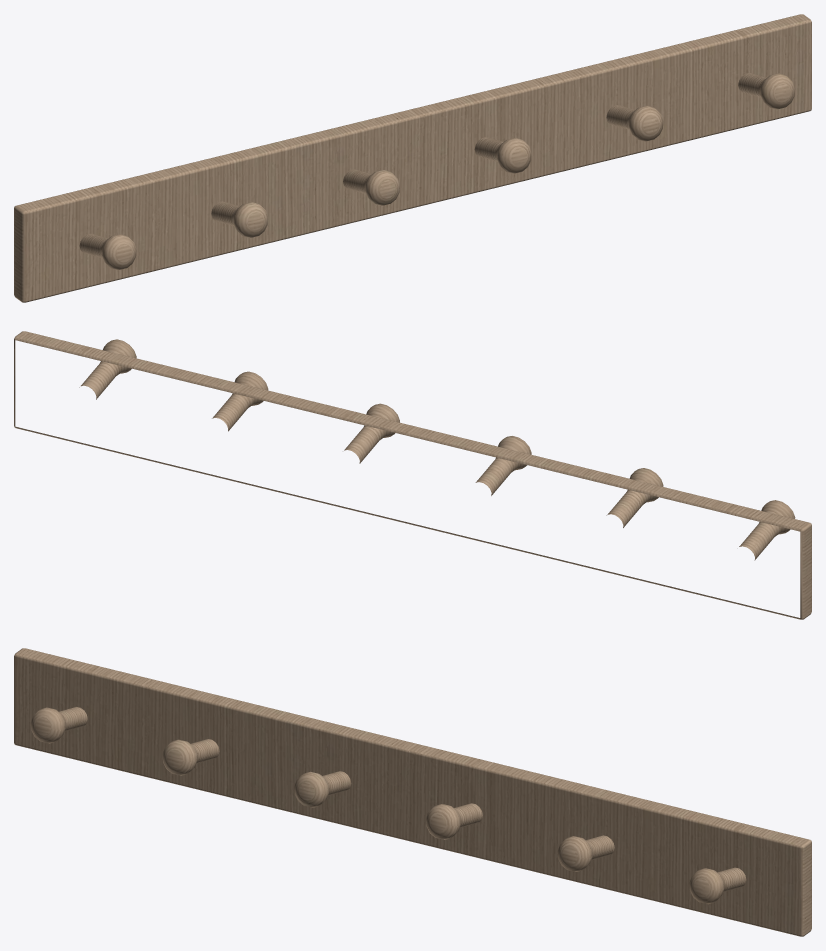
File: coat_rack.glb
The picture shows the model from 3 angles, top to bottom: view 1: azimuth 30°, elevation 25°; view 2: azimuth 150°, elevation 25°; view 3: azimuth 330°, elevation 25°; orthographic projection.
Visible parts, largest first — view 1: coat_rack; view 2: coat_rack; view 3: coat_rack.
Boxes of the visible parts, <box> form: coat_rack: <box>14,14,811,302</box>; coat_rack: <box>14,331,811,619</box>; coat_rack: <box>14,648,811,936</box>.
Bounding box in the file's own units: 0.9 × 0.1 × 0.0919.
Materials: 1 (1 with a texture image).
